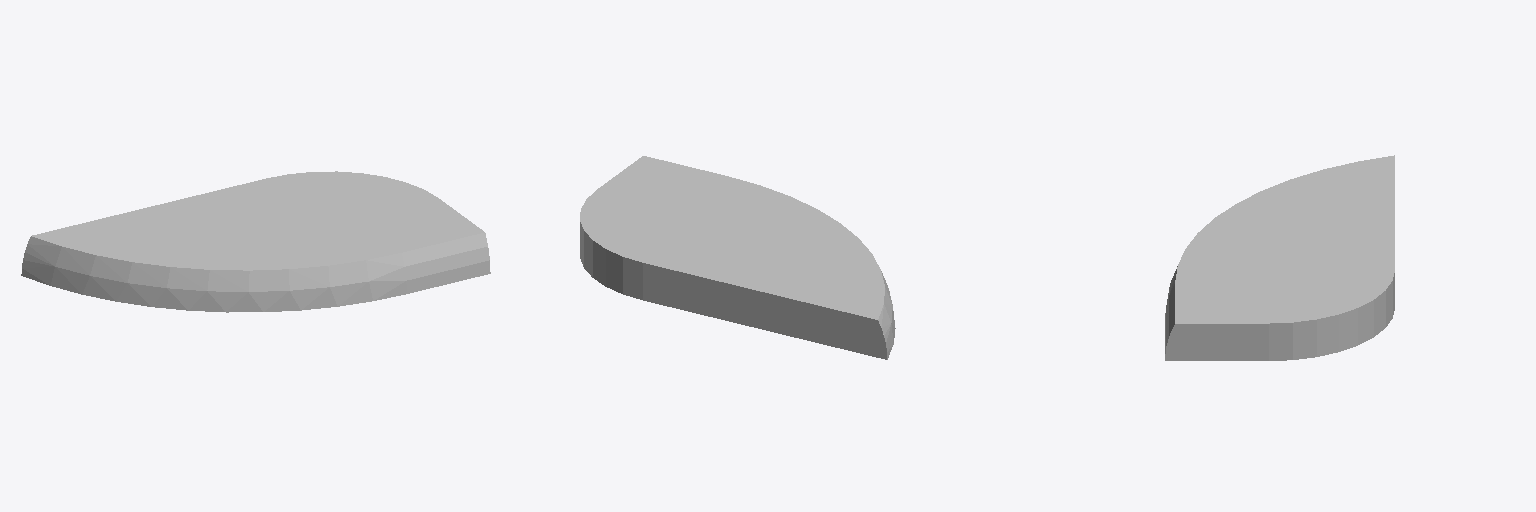
The model's file is Shoulder-Left-Middle.obj.
3 views of the same model, side by side, from view 1: azimuth 30°, elevation 25°; view 2: azimuth 150°, elevation 25°; view 3: azimuth 270°, elevation 25° (orthographic).
Visible parts, largest first — view 1: Shoulder-Left-Middle; view 2: Shoulder-Left-Middle; view 3: Shoulder-Left-Middle.
Part boxes in pixels (x1,y1,x2,y2): Shoulder-Left-Middle: (21, 171, 490, 312); Shoulder-Left-Middle: (580, 156, 895, 359); Shoulder-Left-Middle: (1165, 155, 1394, 360).
Size of the model in its own units: 27.52 by 2.8 by 15.5.